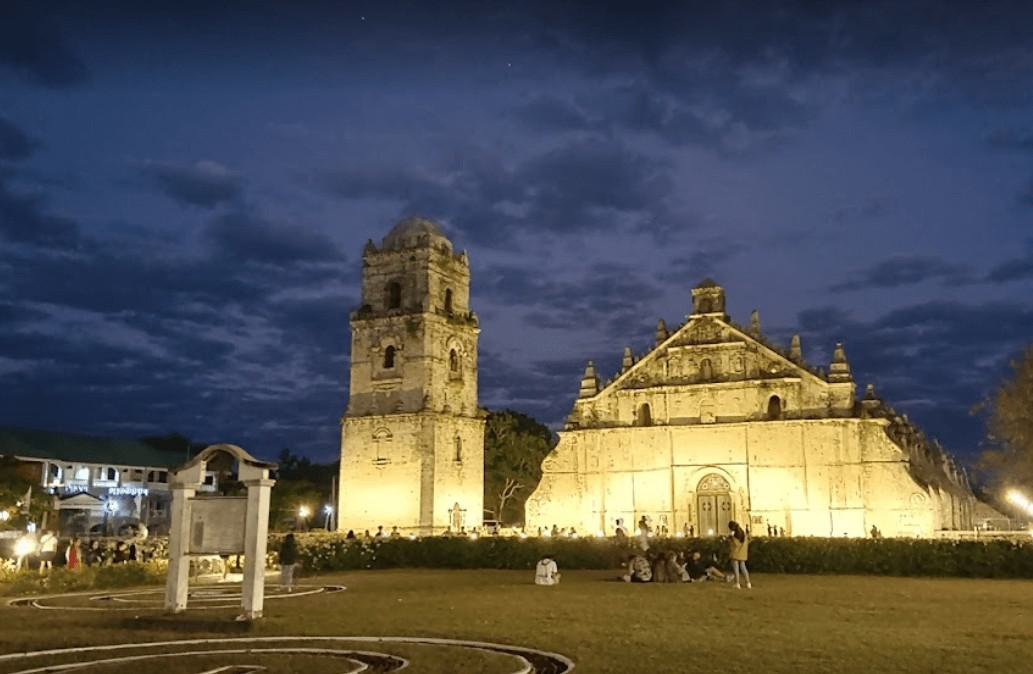paoay_church_paoay_ilocos_norte: (322, 201, 979, 557)
